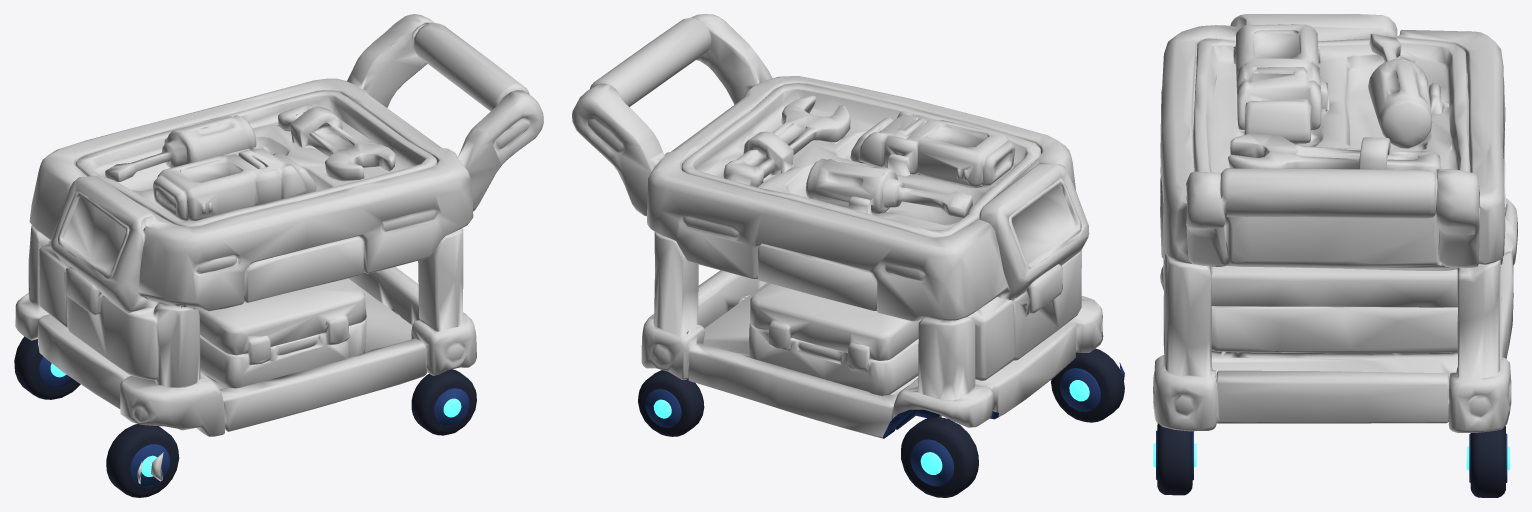
The model's file is cryo-maintenance-cart.glb.
3 views of the same model, side by side, from view 1: azimuth 30°, elevation 25°; view 2: azimuth 150°, elevation 25°; view 3: azimuth 270°, elevation 25° (orthographic). The views are drawn at different scales.
Visible parts, largest first — view 1: cart_body, wheel_front_left, wheel_rear_left, wheel_front_right; view 2: cart_body, wheel_front_right, wheel_front_left, wheel_rear_right; view 3: cart_body, wheel_rear_right, wheel_rear_left.
Part boxes in pixels (x1,y1,x2,y2): cart_body: (15,14,543,483); wheel_front_left: (106,424,179,497); wheel_rear_left: (411,369,476,435); wheel_front_right: (14,336,80,399); cart_body: (572,14,1124,438); wheel_front_right: (901,417,978,497); wheel_front_left: (1051,348,1124,422); wheel_rear_right: (638,370,704,436); cart_body: (1153,14,1517,432); wheel_rear_right: (1466,426,1509,497); wheel_rear_left: (1153,423,1196,495).
Bounding box in the file's own units: 1.4 × 0.958 × 0.8455.
